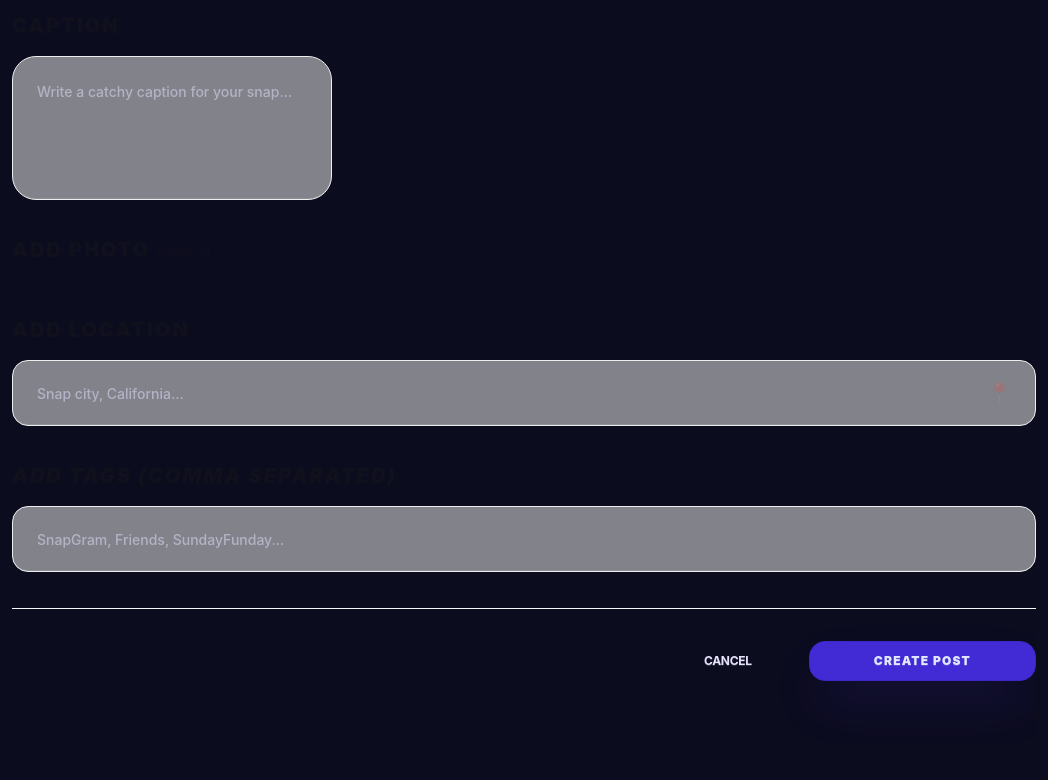
PostForm Component › shows validation errors when submitting an empty form
The image size is (1048, 780).
What coordinates should you click on to do the following:
click the button "Create Post"
I would click on:
 (922, 661)
Its box is [809,641,1036,681].
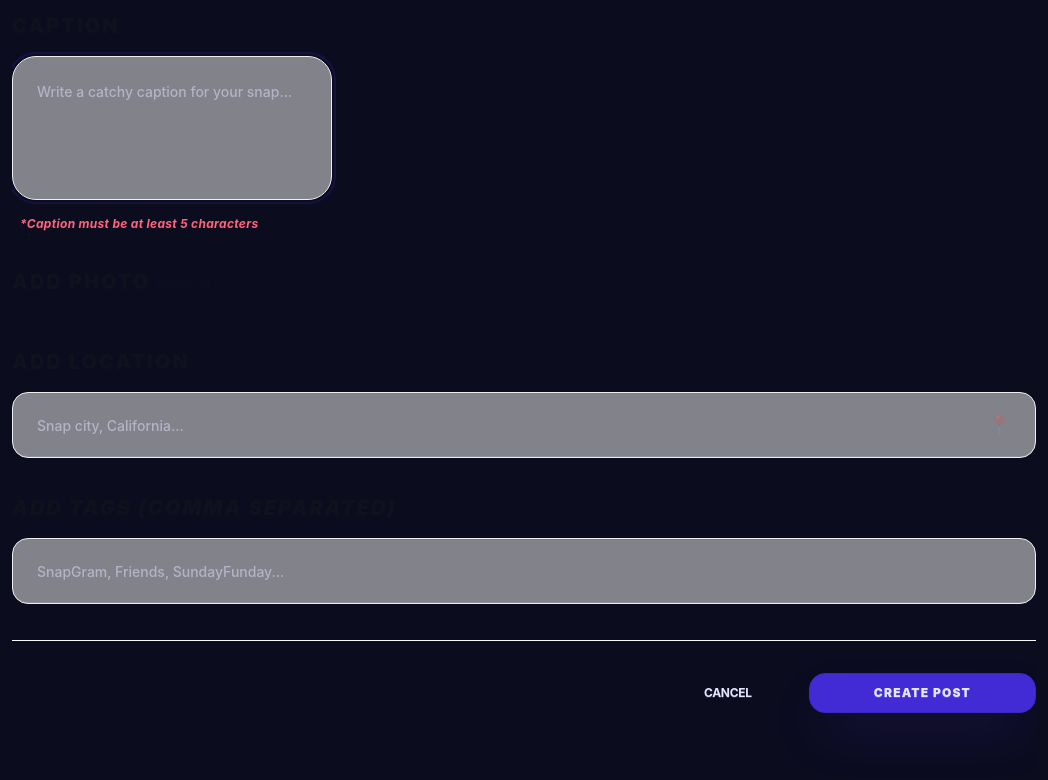
Result: the text "*Caption must be at least 5 characters" is shown at [20,216,258,231]
